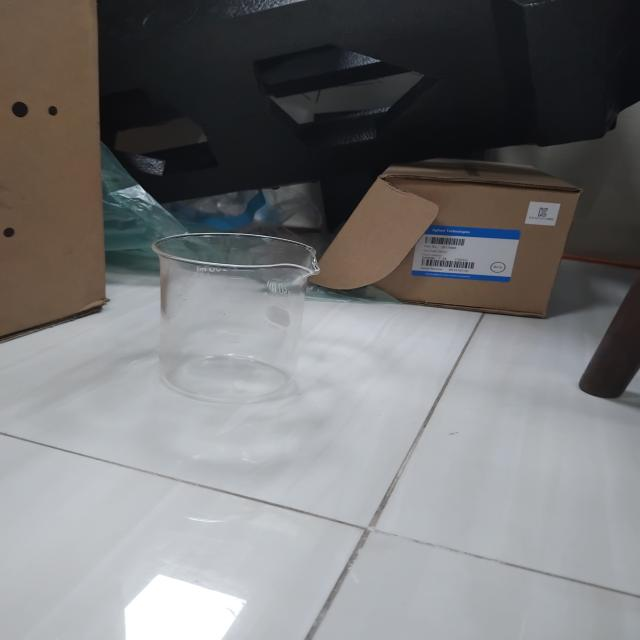Beaker: (142, 177, 349, 432)
